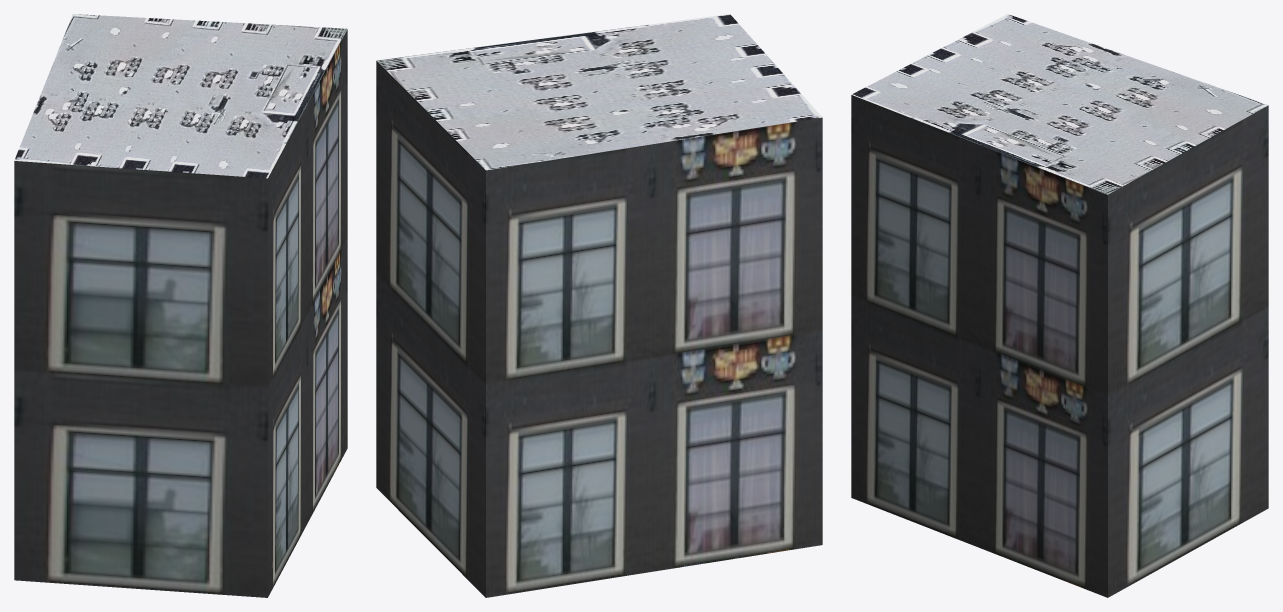
File: ResTex__2229.fbx
The picture shows the model from 3 angles, left to right: view 1: azimuth 30°, elevation 25°; view 2: azimuth 150°, elevation 25°; view 3: azimuth 270°, elevation 25°; orthographic projection. The views are drawn at different scales.
Visible parts, largest first — view 1: CityEngineMaterial_22_m, CityEngineMaterial_4_m; view 2: CityEngineMaterial_22_m, CityEngineMaterial_4_m; view 3: CityEngineMaterial_22_m, CityEngineMaterial_4_m.
Boxes of the visible parts, x1,y1,x2,y2 form: CityEngineMaterial_22_m: (14, 29, 347, 597); CityEngineMaterial_4_m: (14, 14, 347, 178); CityEngineMaterial_22_m: (376, 61, 822, 597); CityEngineMaterial_4_m: (376, 14, 821, 170); CityEngineMaterial_22_m: (851, 95, 1268, 597); CityEngineMaterial_4_m: (851, 14, 1268, 194).
Size of the model in its own units: 5.77 by 6 by 5.63.
2 materials, 2 textured.
